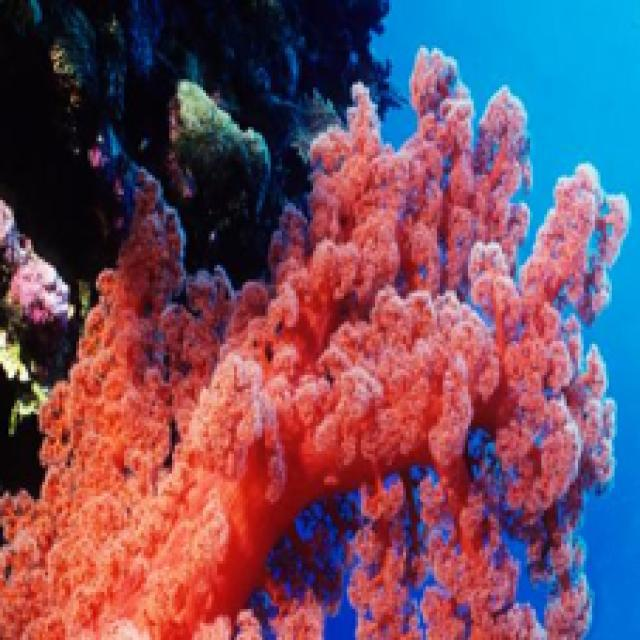Healthy: (1, 49, 630, 638)
